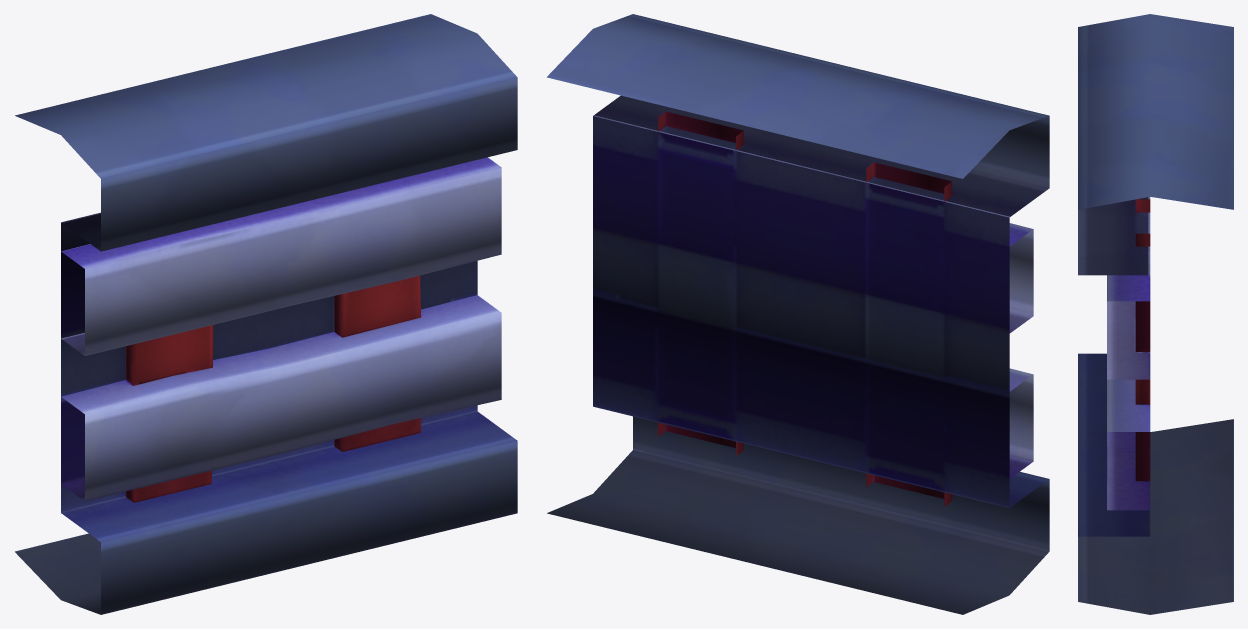
The model's file is LP_LaserRail.fbx.
3 renders of one model, left to right at view 1: azimuth 30°, elevation 25°; view 2: azimuth 150°, elevation 25°; view 3: azimuth 270°, elevation 25°, orthographic. The views are drawn at different scales.
Visible parts, largest first — view 1: LP_LaserRail; view 2: LP_LaserRail; view 3: LP_LaserRail.
Part boxes in pixels (x1,y1,x2,y2): LP_LaserRail: [15, 14, 517, 614]; LP_LaserRail: [547, 14, 1049, 614]; LP_LaserRail: [1078, 14, 1233, 614].
Size of the model in its own units: 30 by 32 by 10.8.
